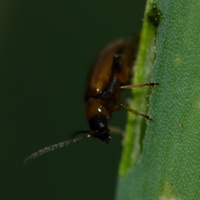insect: (24, 40, 151, 163)
